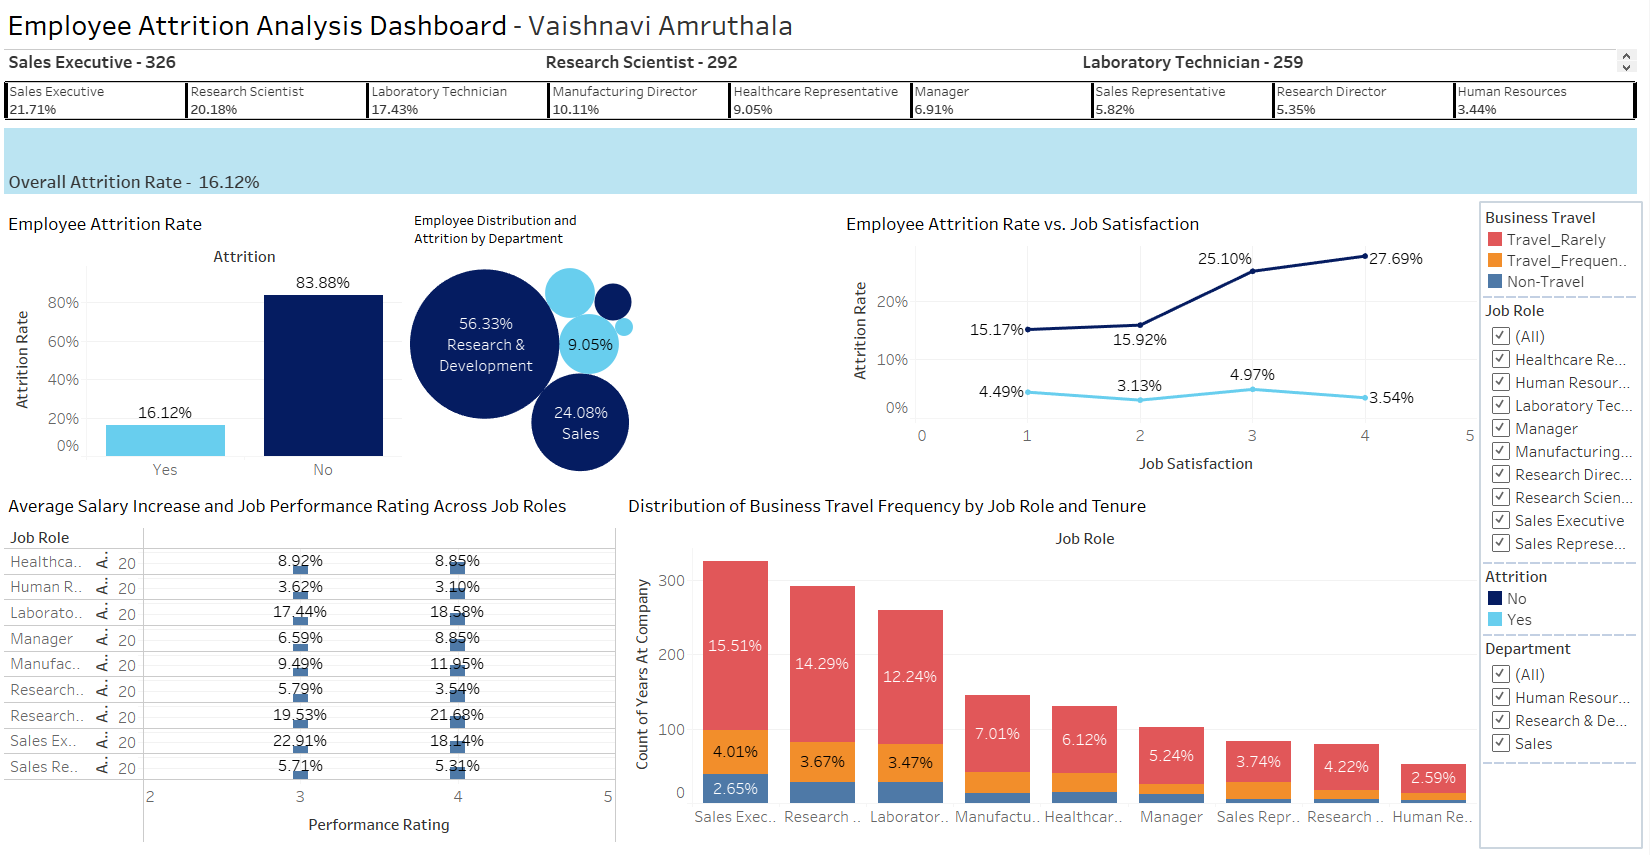

What the dashboard file says about the page in this screenshot:
{"tool":"tableau","page":{"name":"Dashboard 1","canvas":[1000,1000],"units":"permille","ordinal":0},"visuals":[{"type":"title","box":[4.8,9.3,990.3,49.9]},{"type":"worksheet","title":"Sheet 8","mark":"Automatic","cols":["JobRole"],"box":[4.8,59.2,990.3,37.2]},{"type":"worksheet","title":"Sheet 7","mark":"Automatic","cols":["JobRole"],"box":[4.8,96.4,990.3,54.6]},{"type":"worksheet","title":"Sheet 6","mark":"Automatic","box":[4.8,151,990.3,91.8]},{"type":"worksheet","title":"Sheet 1","mark":"Automatic","cols":["Attrition"],"box":[4.8,242.7,245,327.7]},{"type":"worksheet","title":"Sheet 2","mark":"Circle","box":[249.8,242.7,260.9,327.7]},{"type":"worksheet","title":"Sheet 3","mark":"Automatic","cols":["JobSatisfaction"],"box":[510.7,242.7,387.9,327.7]},{"type":"legend","title":"Sheet 5","param":"[federated.1oty7d208b4jpg10z6nmp0znw0ao].[none:BusinessTravel:nk]","box":[898.6,242.7,96.6,108]},{"type":"filter","title":"Sheet 3","param":"[federated.1oty7d208b4jpg10z6nmp0znw0ao].[none:JobRole:nk]","box":[898.6,350.7,96.6,308.9]},{"type":"worksheet","title":"Sheet 4","mark":"Bar","rows":["JobRole","PercentSalaryHike"],"cols":["PerformanceRating"],"box":[4.8,570.4,374.2,420.3]},{"type":"worksheet","title":"Sheet 5","mark":"Automatic","rows":["YearsAtCompany"],"cols":["JobRole"],"box":[379,570.4,519.6,420.3]},{"type":"legend","title":"Sheet 3","param":"[federated.1oty7d208b4jpg10z6nmp0znw0ao].[none:Attrition:nk]","box":[898.6,659.7,96.6,83.6]},{"type":"filter","title":"Sheet 2","param":"[federated.1oty7d208b4jpg10z6nmp0znw0ao].[none:Department:nk]","box":[898.6,743.3,96.6,148.7]}]}

Visuals, with their boxes on the dashboard's canvas, which has no fixed pixel size, in thousandths of its width and height (x1, y1, x2, y2). These are canvas units, not pixel positions in the 1650x855 screenshot, which may show the page scaled, cropped or inside an application window:
title: locate(5, 9, 995, 59)
"Sheet 8" worksheet: locate(5, 59, 995, 96)
"Sheet 7" worksheet: locate(5, 96, 995, 151)
"Sheet 6" worksheet: locate(5, 151, 995, 243)
"Sheet 1" worksheet: locate(5, 243, 250, 570)
"Sheet 2" worksheet (Circle marks): locate(250, 243, 511, 570)
"Sheet 3" worksheet: locate(511, 243, 899, 570)
"Sheet 5" legend: locate(899, 243, 995, 351)
"Sheet 3" filter: locate(899, 351, 995, 660)
"Sheet 4" worksheet (Bar marks): locate(5, 570, 379, 991)
"Sheet 5" worksheet: locate(379, 570, 899, 991)
"Sheet 3" legend: locate(899, 660, 995, 743)
"Sheet 2" filter: locate(899, 743, 995, 892)
